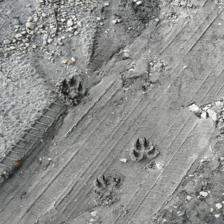dog: (130, 135, 160, 170), (58, 77, 86, 101)
